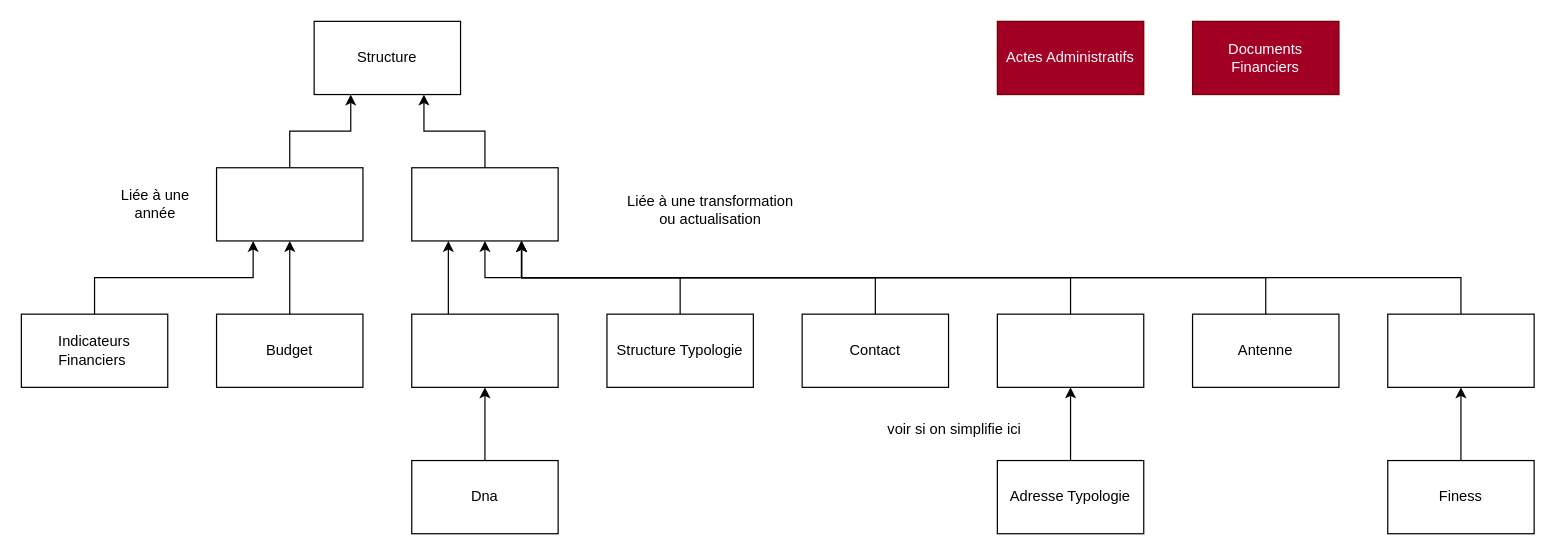
This 1556x555 diagram has some shape labels left out. Here are the shapes that lost their labels. From the top down, the box of each, then its label:
(215, 167, 363, 241): Structure Milesime
(411, 167, 558, 241): Structure Version (dont tous champs scalaires)
(411, 313, 558, 387): Structure Version x Dna
(996, 313, 1144, 387): Adresse
(1387, 313, 1534, 387): Structure Version x Finess
